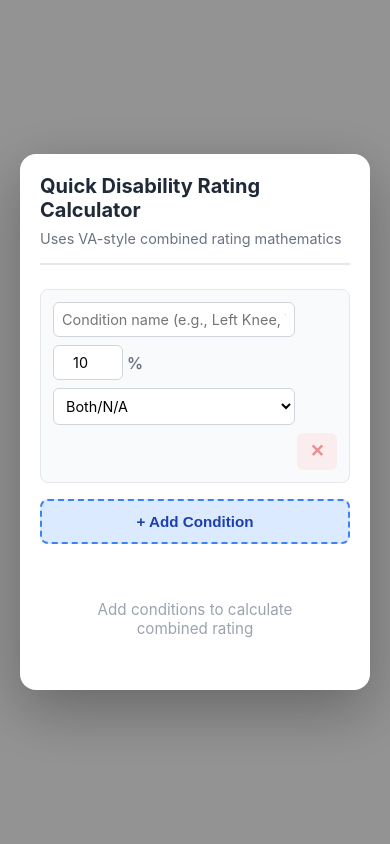
Scenario: DisabilityCalculator Component › Removing Conditions › removes condition when remove button clicked
The width and height of the screenshot is (390, 844).
Click the button "+ Add Condition" at (195, 522), box top-left (40, 499), bottom-right (350, 544)
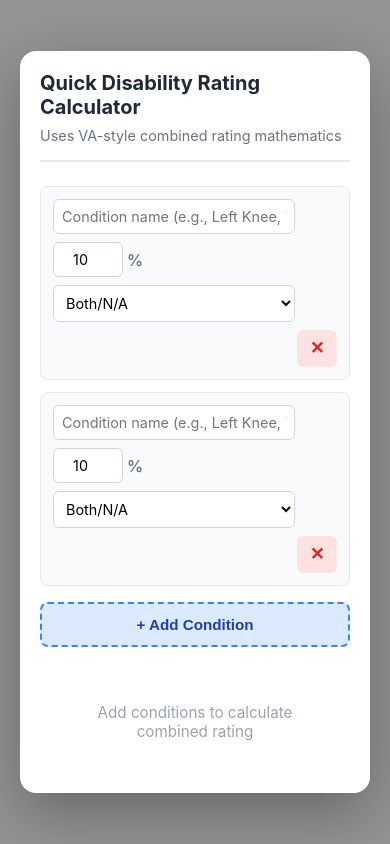
Click the 1st button "✕" at (317, 348), box top-left (297, 330), bottom-right (337, 367)
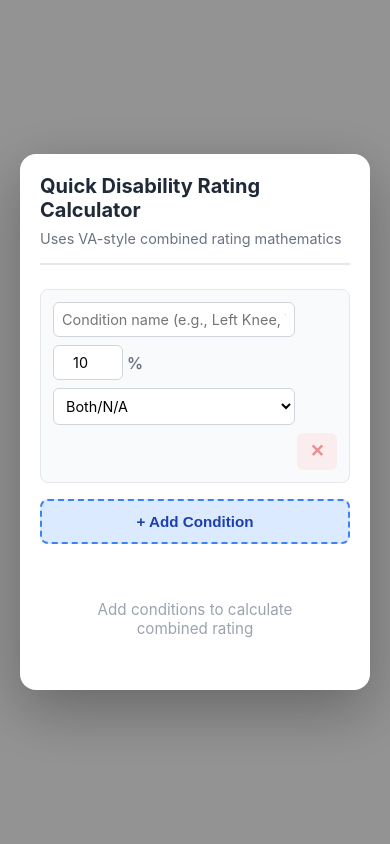
Check: the number of fields with placeholder "Condition name (e.g., Left Knee, Tinnitus)" is 1, box top-left (53, 302), bottom-right (295, 337)
